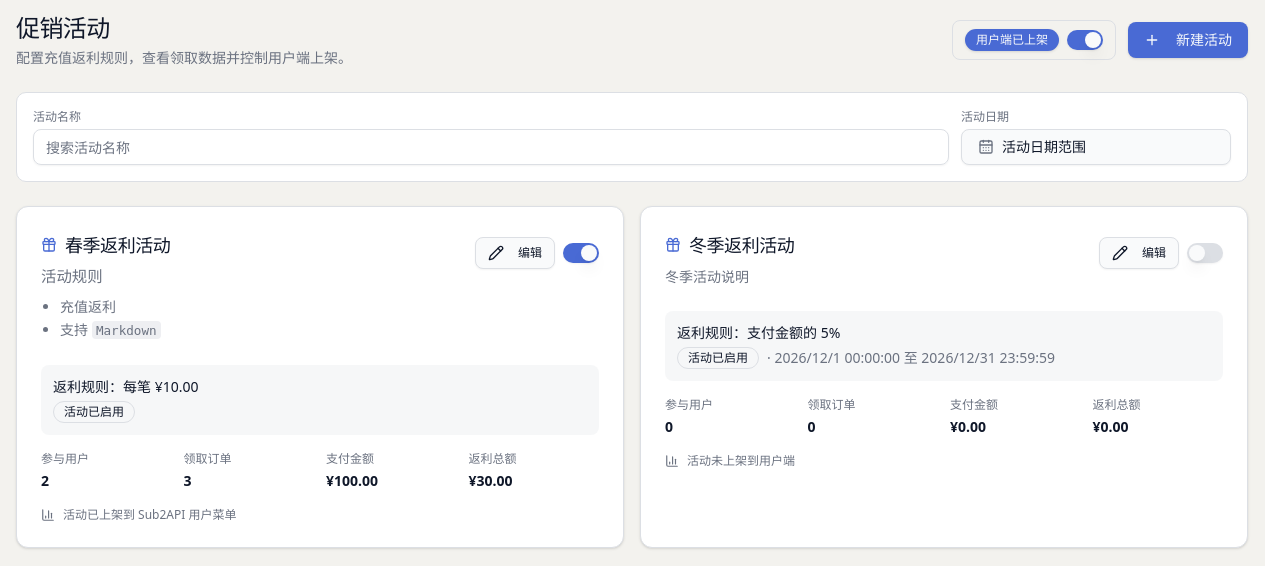
Test: 促销活动管理 › 按活动名称筛选列表
Expected: the text "冬季返利活动" is shown, [665,231,794,259]
Type "冬季" into the field with placeholder "搜索活动名称".
click(491, 147); type("冬季")  # box [33,129,949,165]
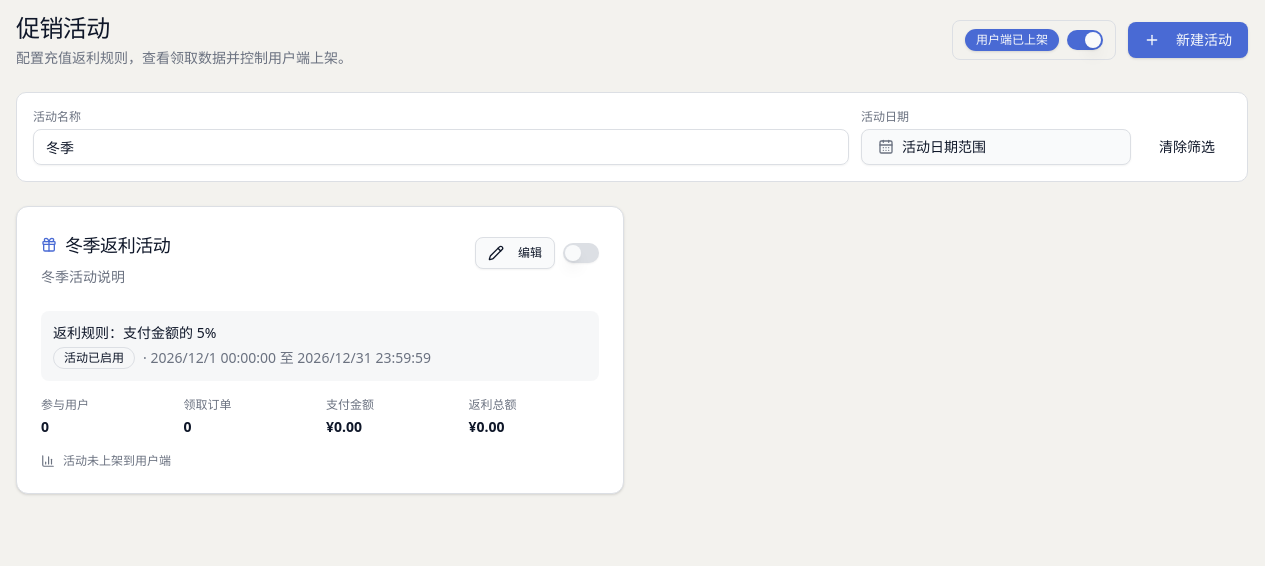
Expected: the text "冬季返利活动" is shown, [41,231,170,259]
Now the text "春季返利活动" is gone
